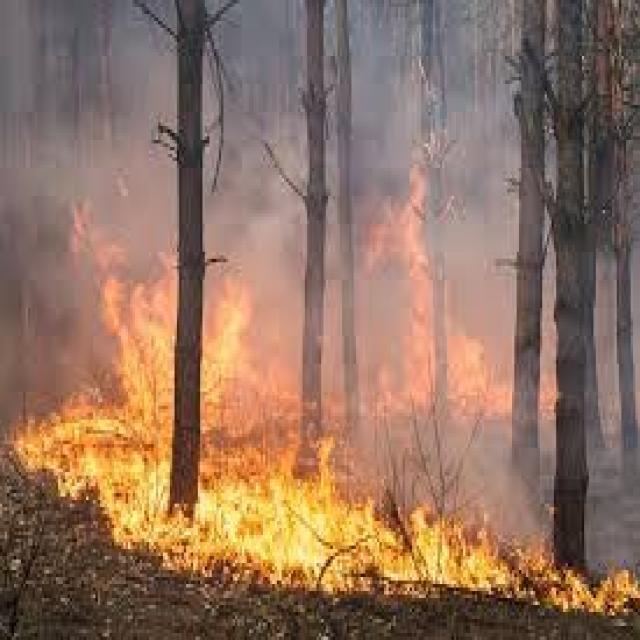Fire: (206, 469, 458, 586), (29, 402, 174, 552), (474, 528, 628, 620), (367, 206, 436, 406), (210, 294, 272, 454), (108, 260, 172, 398), (449, 337, 512, 412)
Smoke: (4, 0, 175, 236), (346, 19, 504, 168), (208, 7, 300, 253)
